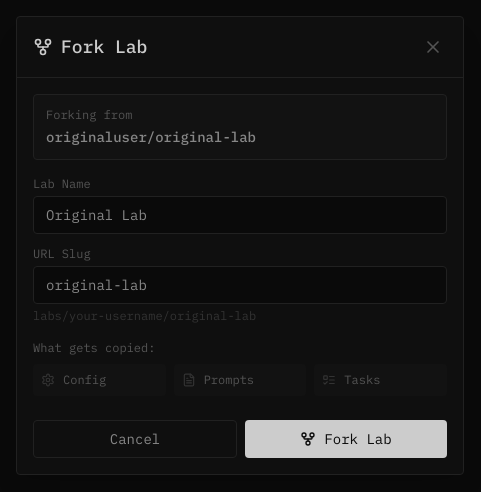
ForkDialog › shows loading state while forking
Click the button "Fork Lab" at [346, 438], box left=245, top=420, right=447, bottom=458
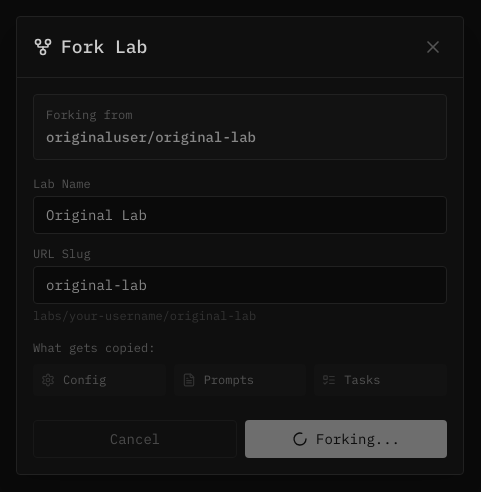
Now the button "Forking..." is disabled, box left=245, top=420, right=447, bottom=458
